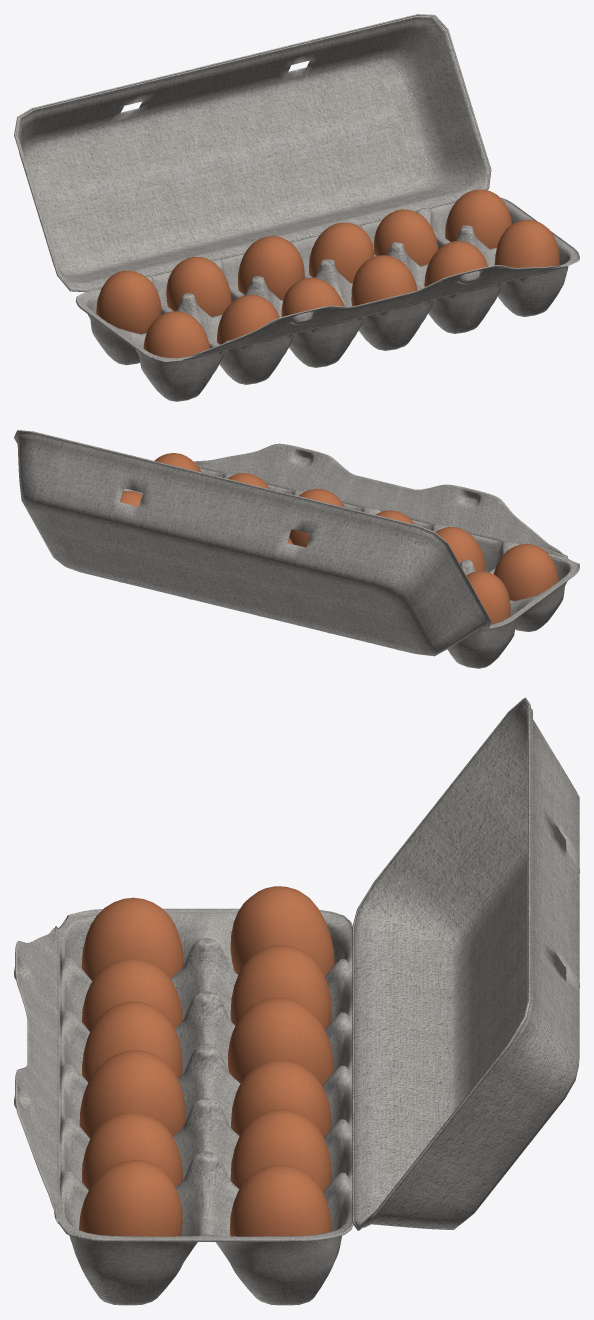
The model's file is dozen eggs 3d.glb.
3 renders of one model, top to bottom at view 1: azimuth 30°, elevation 25°; view 2: azimuth 150°, elevation 25°; view 3: azimuth 270°, elevation 25°, orthographic. The views are drawn at different scales.
Visible parts, largest first — view 1: carton_top_Plane.001, eggs_Cube.011, carton_bottom_Plane; view 2: carton_top_Plane.001, carton_bottom_Plane, eggs_Cube.011; view 3: carton_top_Plane.001, eggs_Cube.011, carton_bottom_Plane.
Boxes of the visible parts, bbox=[...] form: carton_top_Plane.001: bbox=[14, 14, 491, 292]; eggs_Cube.011: bbox=[96, 189, 559, 357]; carton_bottom_Plane: bbox=[75, 197, 579, 401]; carton_top_Plane.001: bbox=[14, 430, 491, 656]; carton_bottom_Plane: bbox=[119, 443, 579, 668]; eggs_Cube.011: bbox=[120, 453, 558, 624]; carton_top_Plane.001: bbox=[352, 697, 579, 1230]; eggs_Cube.011: bbox=[79, 886, 334, 1236]; carton_bottom_Plane: bbox=[14, 908, 353, 1305].
Bounding box in the file's own units: 3.94 × 1.72 × 2.83.
2 materials, 2 textured.
